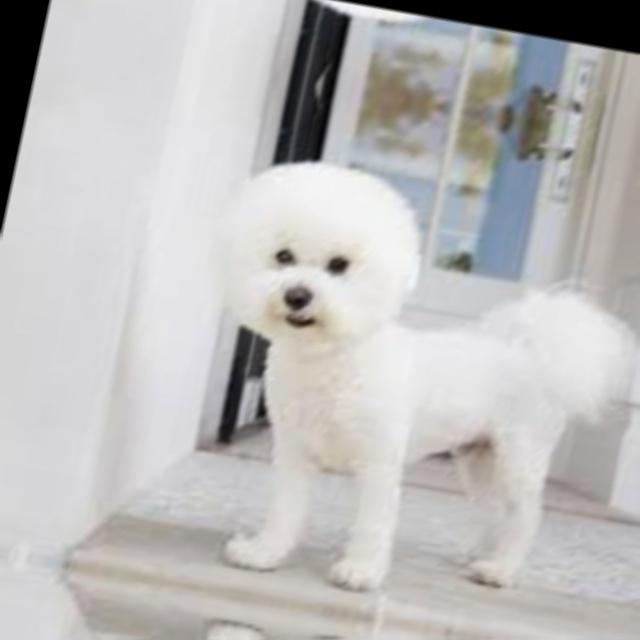dog: (158, 137, 640, 633), (271, 0, 640, 96), (134, 610, 604, 640)
